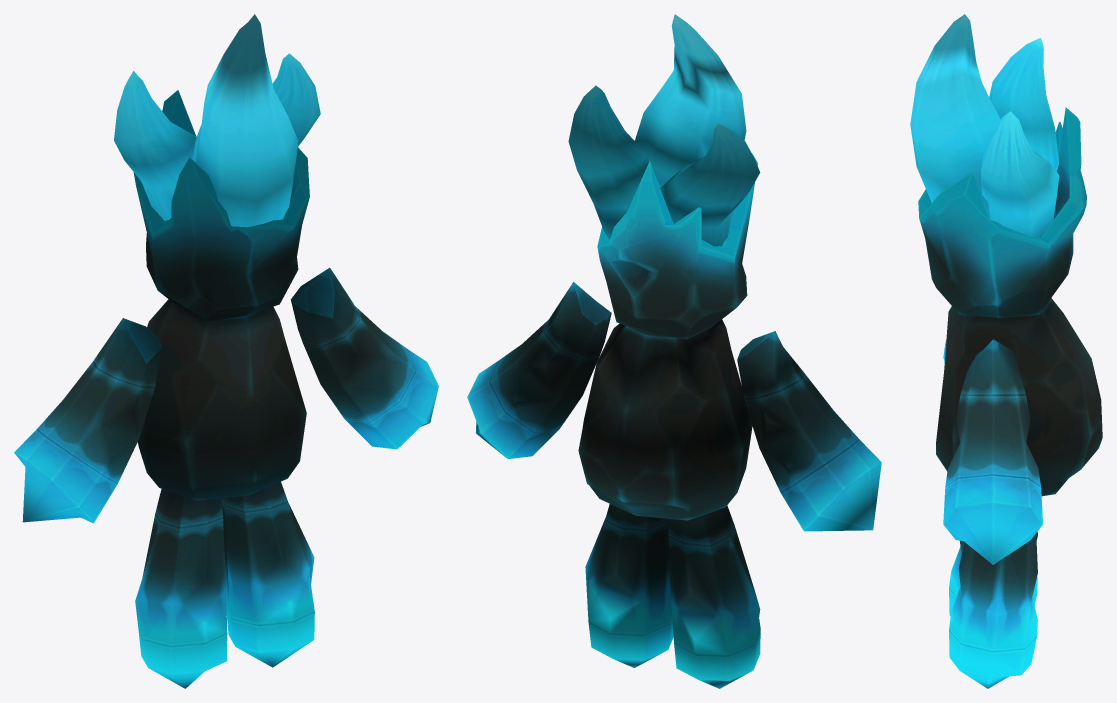
The model's file is mvr_petmgm2501-et03.glb.
The picture shows the model from 3 angles, left to right: view 1: azimuth 30°, elevation 25°; view 2: azimuth 150°, elevation 25°; view 3: azimuth 270°, elevation 25°; orthographic projection. The views are drawn at different scales.
Visible parts, largest first — view 1: MonsterMesh; view 2: MonsterMesh; view 3: MonsterMesh.
Part boxes in pixels (box(x1,y1,x2,y2)): MonsterMesh: box(14, 14, 438, 688); MonsterMesh: box(467, 14, 881, 688); MonsterMesh: box(910, 14, 1102, 688).
Bounding box in the file's own units: 0.6735 × 1.06 × 0.2791.
Materials: 1 (1 with a texture image).
